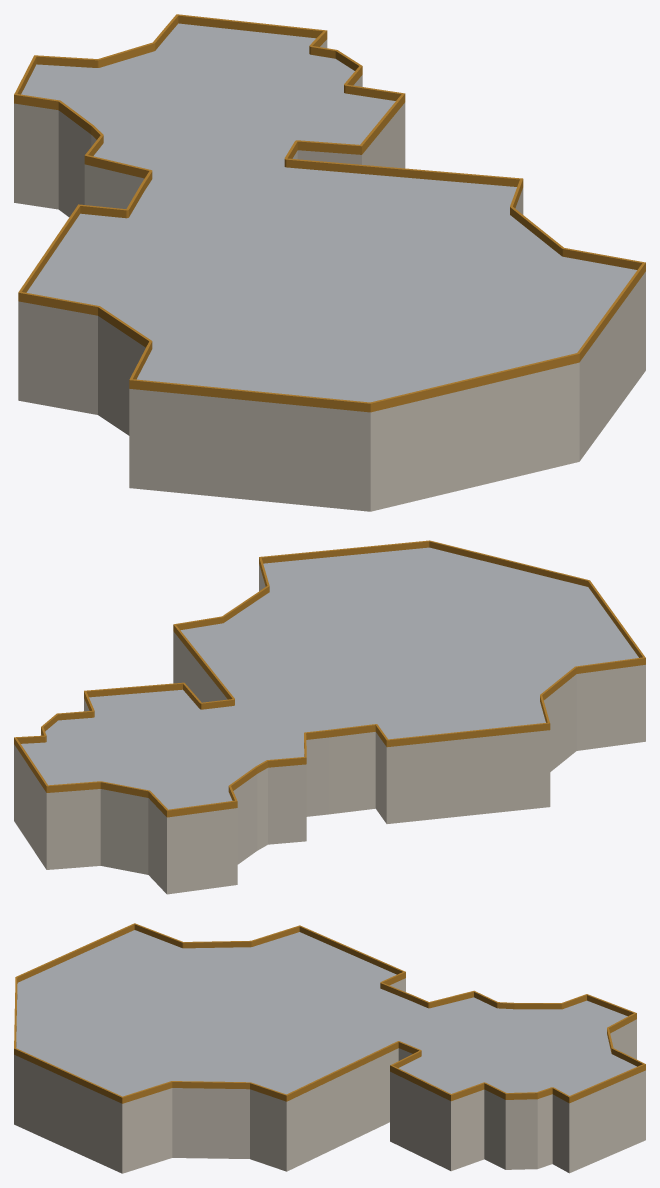
File: building_a.glb
3 views of the same model, one above another, from view 1: azimuth 30°, elevation 25°; view 2: azimuth 150°, elevation 25°; view 3: azimuth 270°, elevation 25° (orthographic). The views are drawn at different scales.
Visible parts, largest first — view 1: geometry_0; view 2: geometry_0; view 3: geometry_0.
Boxes of the visible parts, x1=… form: geometry_0: x1=14, y1=14, x2=645, y2=511; geometry_0: x1=14, y1=540, x2=645, y2=894; geometry_0: x1=14, y1=923, x2=645, y2=1173.
Bounding box in the file's own units: 61.02 × 12.4 × 93.36.
